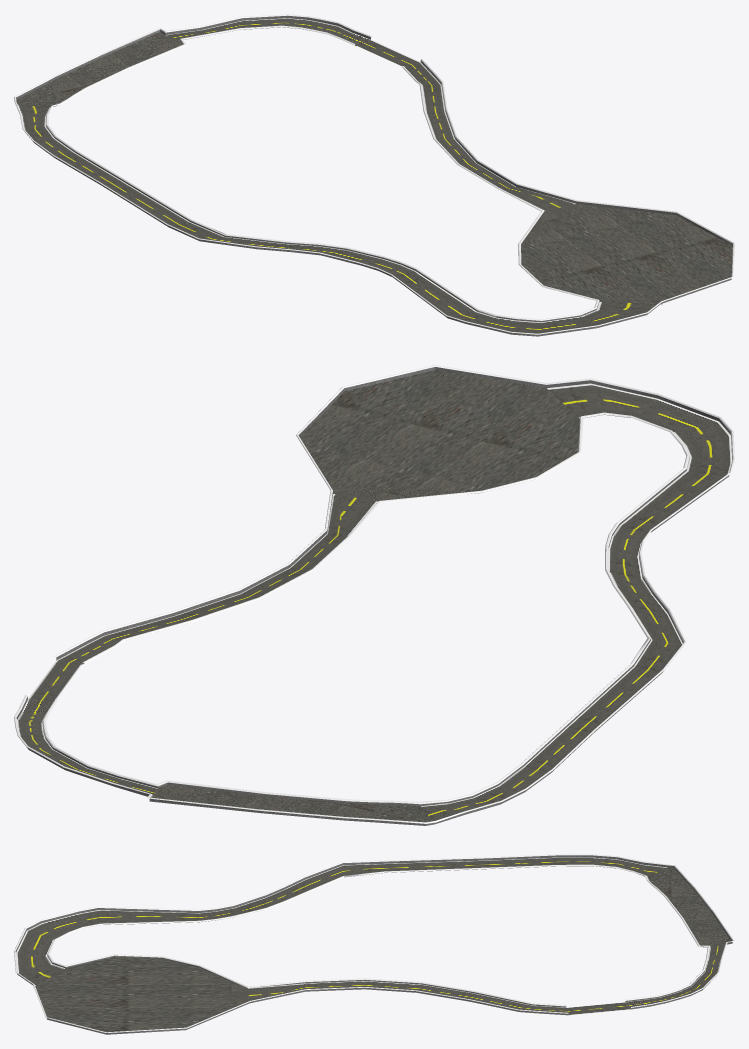
Rendered from modelado_fin_0002.fbx.
3 renders of one model, top to bottom at view 1: azimuth 30°, elevation 25°; view 2: azimuth 150°, elevation 25°; view 3: azimuth 270°, elevation 25°, orthographic. The views are drawn at different scales.
Visible parts, largest first — view 1: Asfalto, MuroContencion; view 2: Asfalto, MuroContencion; view 3: Asfalto, MuroContencion.
Boxes of the visible parts, bbox=[...] form: Asfalto: bbox=[16, 18, 732, 333]; MuroContencion: bbox=[14, 14, 734, 336]; Asfalto: bbox=[17, 370, 732, 822]; MuroContencion: bbox=[14, 365, 734, 825]; Asfalto: bbox=[16, 857, 730, 1032]; MuroContencion: bbox=[14, 854, 734, 1034].
Bounding box in the file's own units: 62456 × 900 × 106498.
